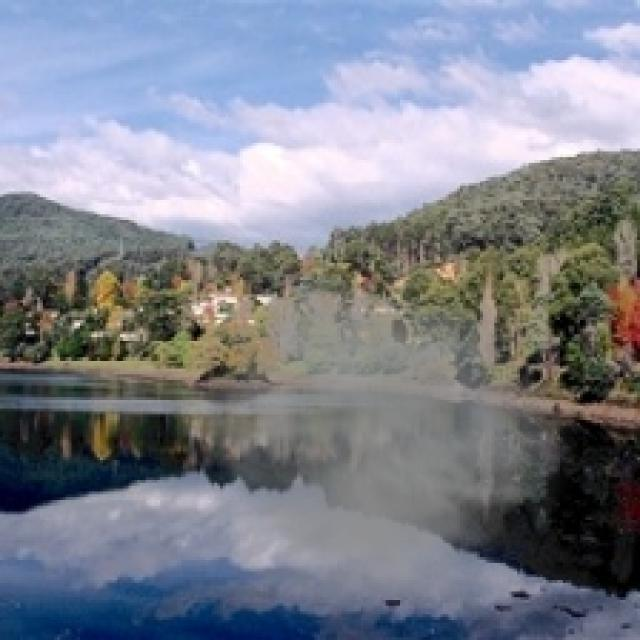smoke: (174, 274, 589, 634)
